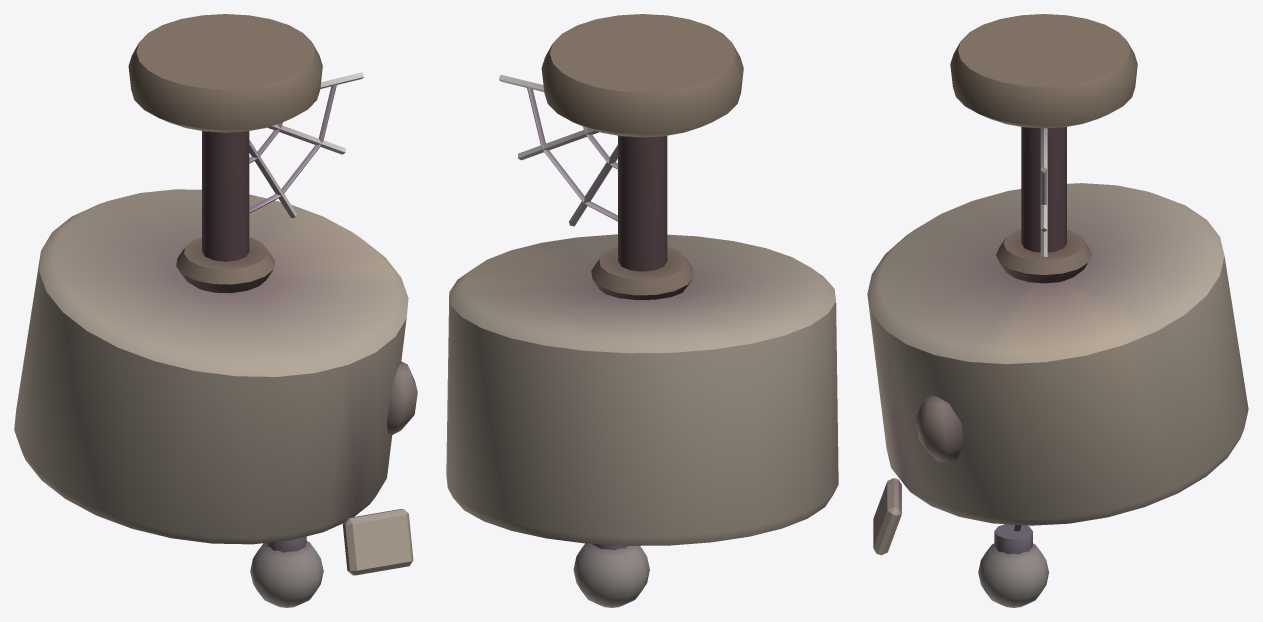
File: lamp_broken.glb
The picture shows the model from 3 angles, left to right: view 1: azimuth 30°, elevation 25°; view 2: azimuth 150°, elevation 25°; view 3: azimuth 270°, elevation 25°; orthographic projection. The views are drawn at different scales.
Parts seen in each view (by area): view 1: lamp_broken; view 2: lamp_broken; view 3: lamp_broken.
Part boxes in pixels (x1=…): lamp_broken: x1=14, y1=14, x2=417, y2=607; lamp_broken: x1=446, y1=14, x2=838, y2=607; lamp_broken: x1=867, y1=14, x2=1248, y2=607.
Size of the model in its own units: 0.7376 by 1.16 by 0.7523.
